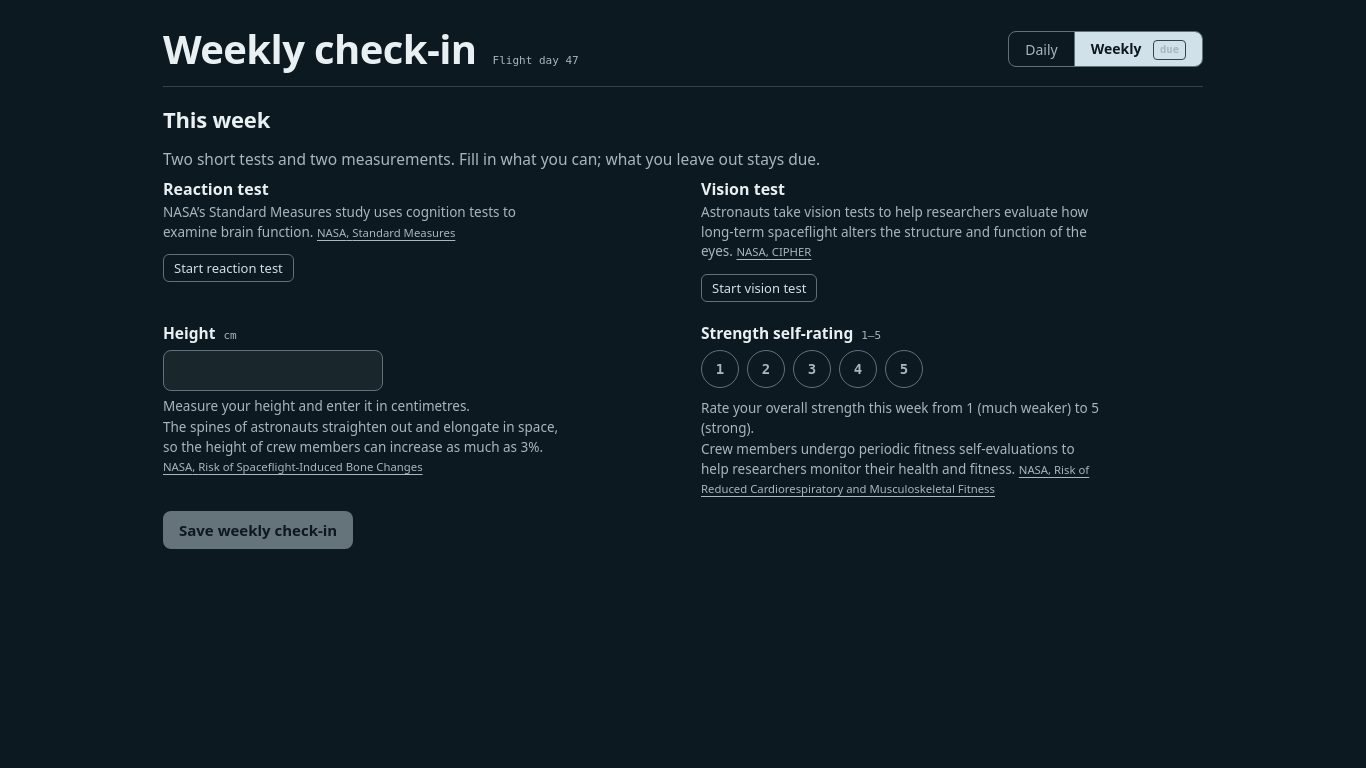
weekly check-in › the check-in opens on the weekly part when only that is due
Expected: the heading "Weekly check-in" is shown, [163,28,476,70]
Click the button "Daily" at (1041, 49), box [1009,32,1074,66]
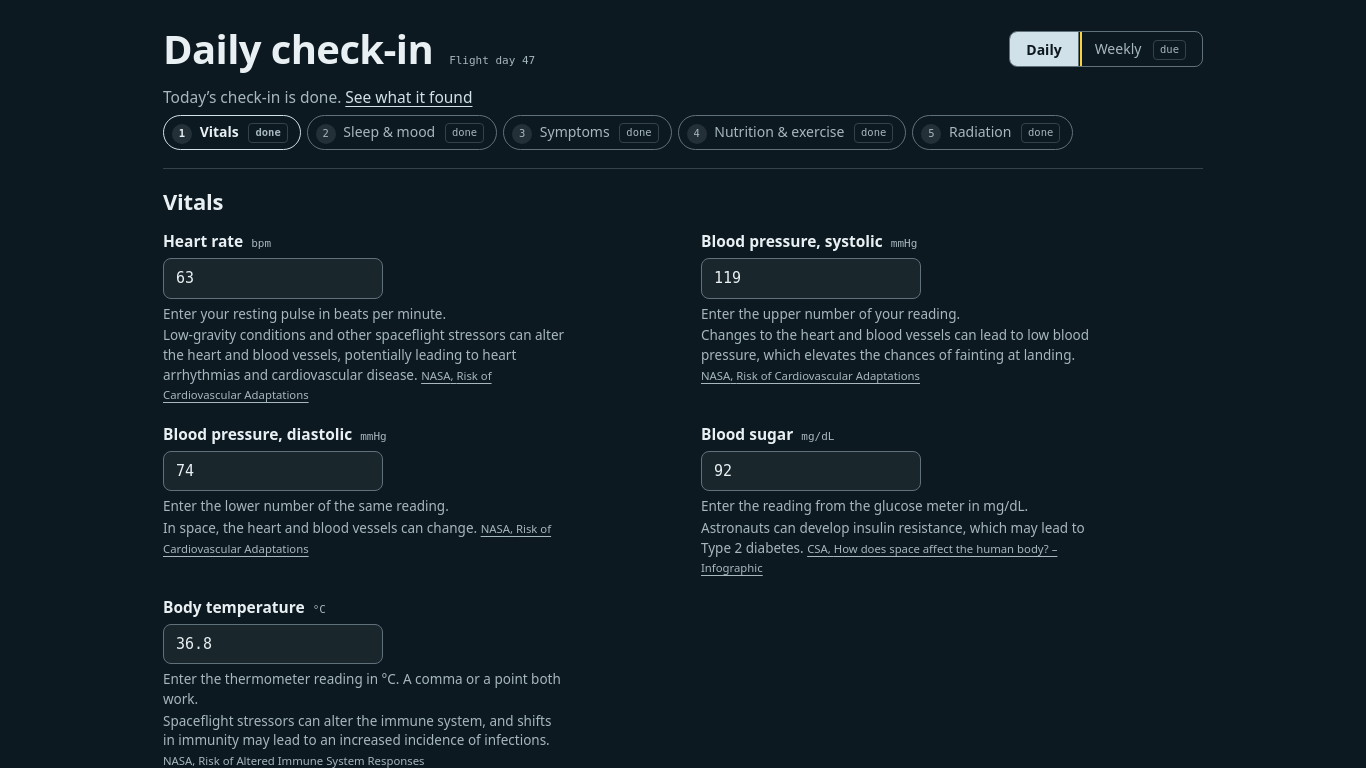
Expected: the heading "Daily check-in" is shown, [163,28,433,70]
